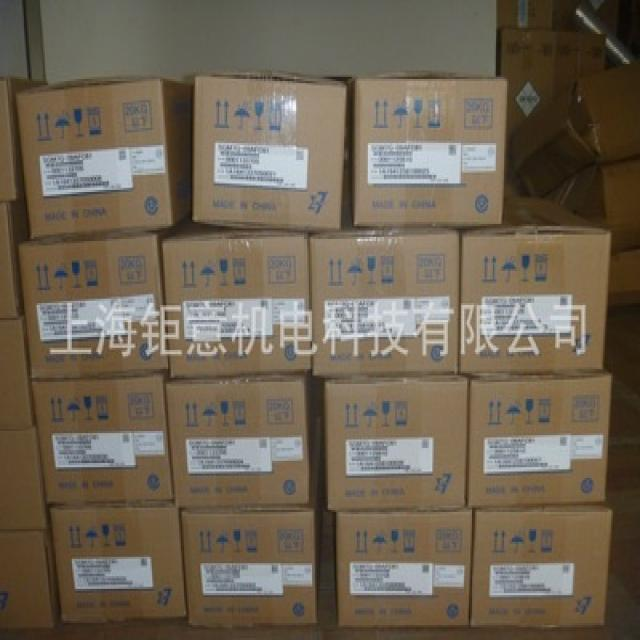box: (16, 77, 194, 239), (453, 196, 613, 373), (350, 70, 507, 226), (194, 70, 347, 230), (162, 228, 312, 378), (19, 230, 168, 380), (310, 228, 461, 375), (462, 369, 611, 508), (326, 371, 467, 508), (165, 373, 309, 506), (30, 373, 173, 503), (470, 503, 613, 629), (51, 501, 187, 625), (336, 508, 472, 627), (181, 508, 317, 625), (0, 523, 59, 629), (0, 314, 34, 431)
